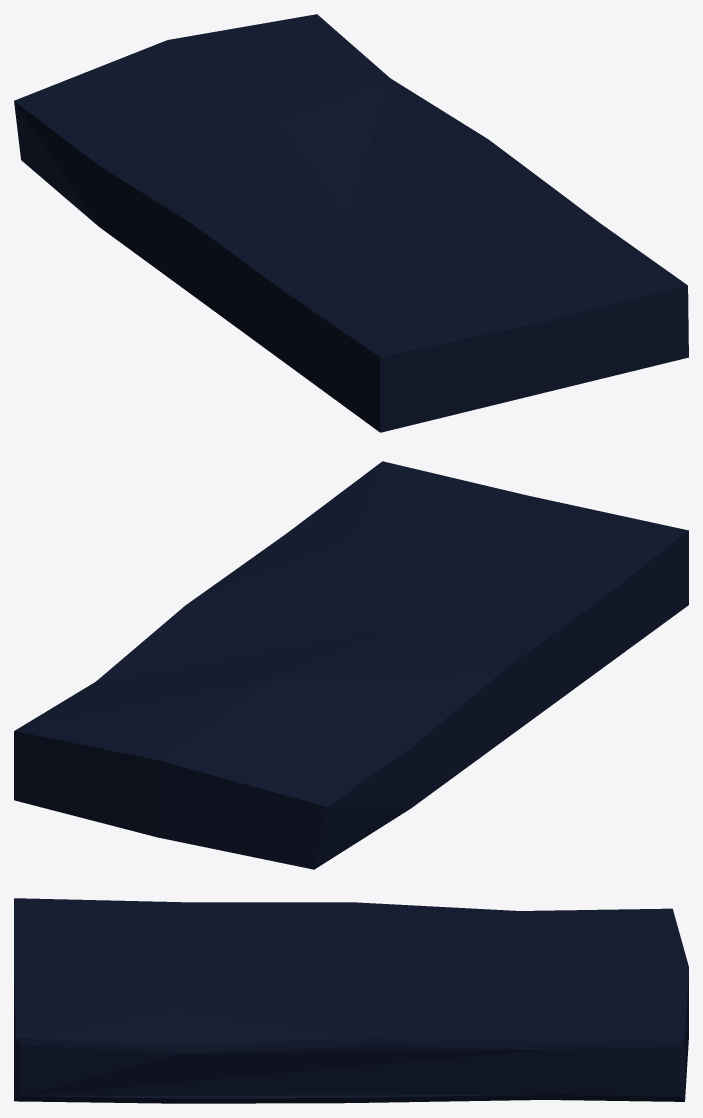
Rendered from obstacle_trapdoor_left.FBX.
The picture shows the model from 3 angles, top to bottom: view 1: azimuth 30°, elevation 25°; view 2: azimuth 150°, elevation 25°; view 3: azimuth 270°, elevation 25°; orthographic projection. The views are drawn at different scales.
Parts seen in each view (by area): view 1: trapdoor_left; view 2: trapdoor_left; view 3: trapdoor_left.
Part boxes in pixels (x1,y1,x2,y2): trapdoor_left: [14, 14, 688, 432]; trapdoor_left: [14, 461, 688, 869]; trapdoor_left: [14, 898, 688, 1103].
Bounding box in the file's own units: 3.89 × 0.9206 × 8.
